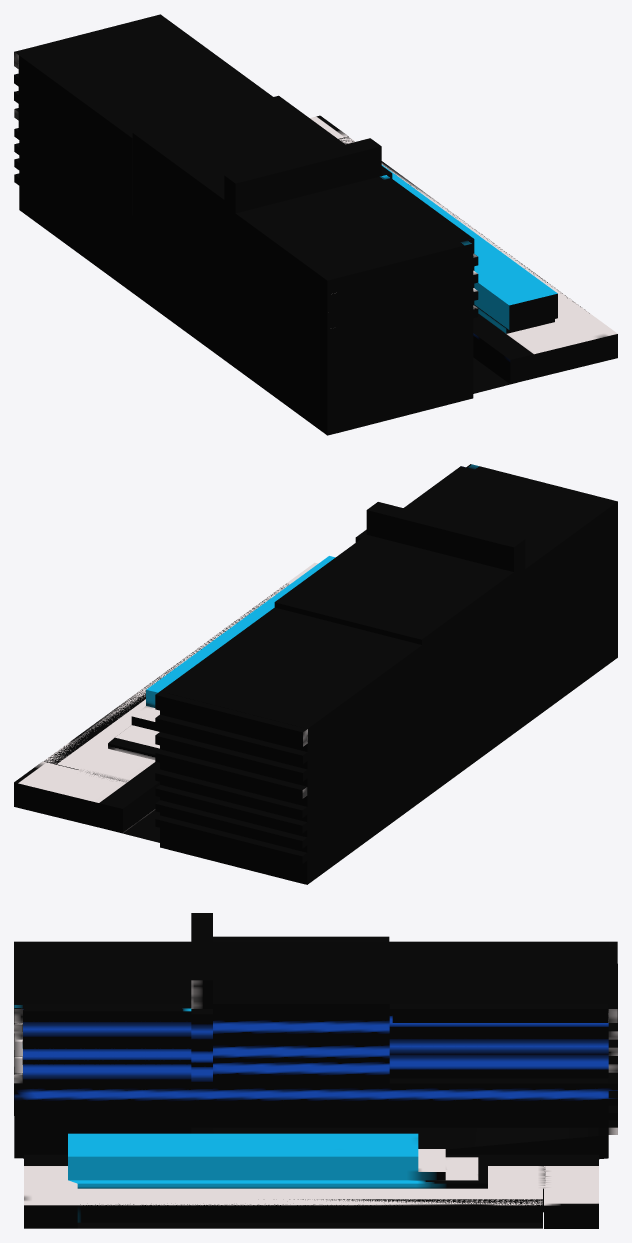
Rendered from hospital 3 .fbx.
3 renders of one model, top to bottom at view 1: azimuth 30°, elevation 25°; view 2: azimuth 150°, elevation 25°; view 3: azimuth 270°, elevation 25°, orthographic. The views are drawn at different scales.
Visible parts, largest first — view 1: Cube; view 2: Cube; view 3: Cube.
Boxes of the visible parts, left/top/right/bottom form: Cube: left=14, top=14, right=617, bottom=435; Cube: left=14, top=464, right=617, bottom=884; Cube: left=14, top=913, right=617, bottom=1228.
Size of the model in its own units: 3683 by 2211 by 6738.
